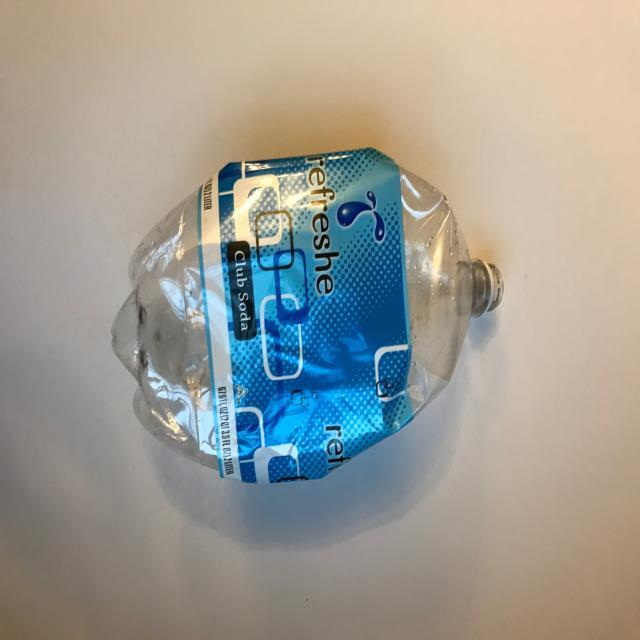plastic: (106, 145, 522, 489)
